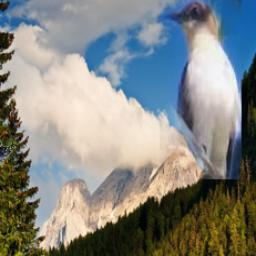Crow: (0, 138, 17, 175)
Cuckoo: (160, 0, 242, 180)
